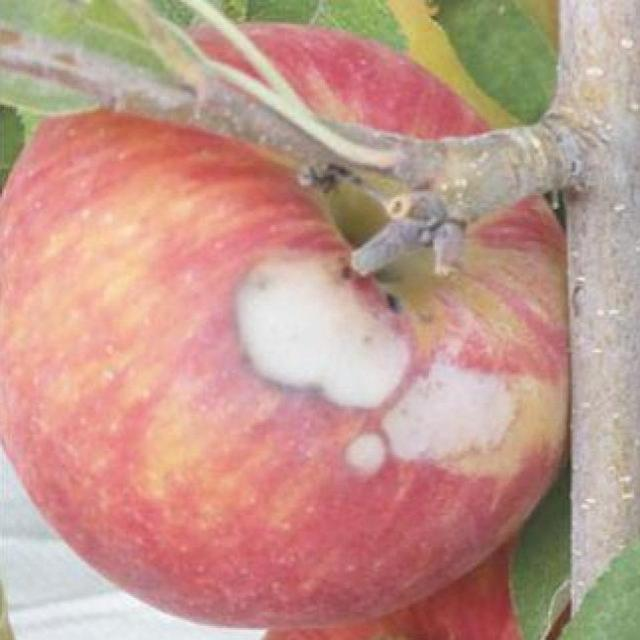Sunscald Fruit: (140, 153, 342, 337)
